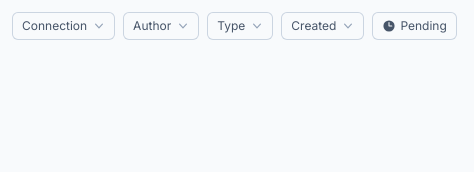
Test: RequestFilterBar › permission degradation › still offers 'Your requests' when the user list is not accessible
The width and height of the screenshot is (474, 172).
Step 1. Click the button with test id "filter-author" → (161, 26), box [123,12,199,40]
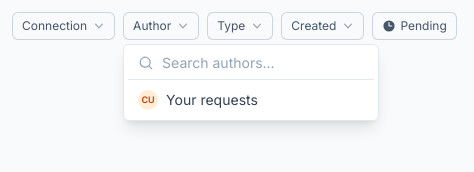
Check: the button with test id "filter-author-mine" is shown, box [128,84,374,116]
